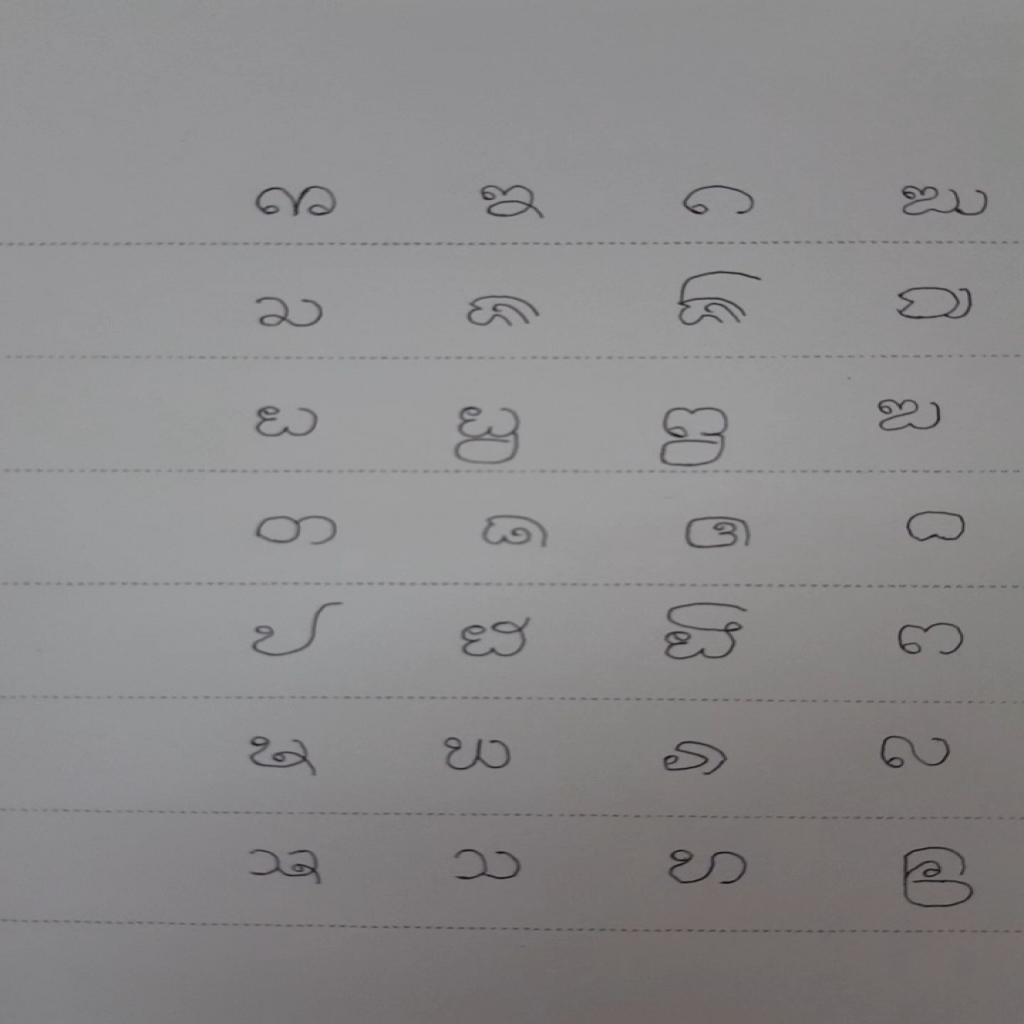LN001: (248, 182, 344, 223)
LN002: (471, 178, 556, 227)
LN003: (673, 179, 766, 223)
LN004: (887, 177, 998, 224)
LN007: (243, 288, 336, 338)
LN008: (455, 286, 548, 337)
LN009: (665, 265, 768, 334)
LN010: (885, 277, 984, 327)
LN013: (240, 396, 332, 447)
LN014: (442, 396, 531, 470)
LN015: (650, 402, 736, 472)
LN016: (869, 392, 954, 440)
LN019: (245, 508, 346, 554)
LN020: (473, 506, 560, 557)
LN021: (674, 509, 762, 557)
LN022: (894, 504, 976, 549)
LN025: (243, 597, 350, 663)
LN026: (451, 609, 540, 666)
LN027: (654, 597, 752, 670)
LN028: (885, 617, 975, 663)
LN031: (238, 727, 326, 781)
LN032: (435, 730, 521, 776)
LN033: (650, 732, 739, 783)
LN034: (871, 725, 964, 776)
LN037: (240, 838, 333, 891)
LN038: (444, 841, 531, 889)
LN039: (658, 843, 758, 893)
LN040: (892, 838, 985, 916)
